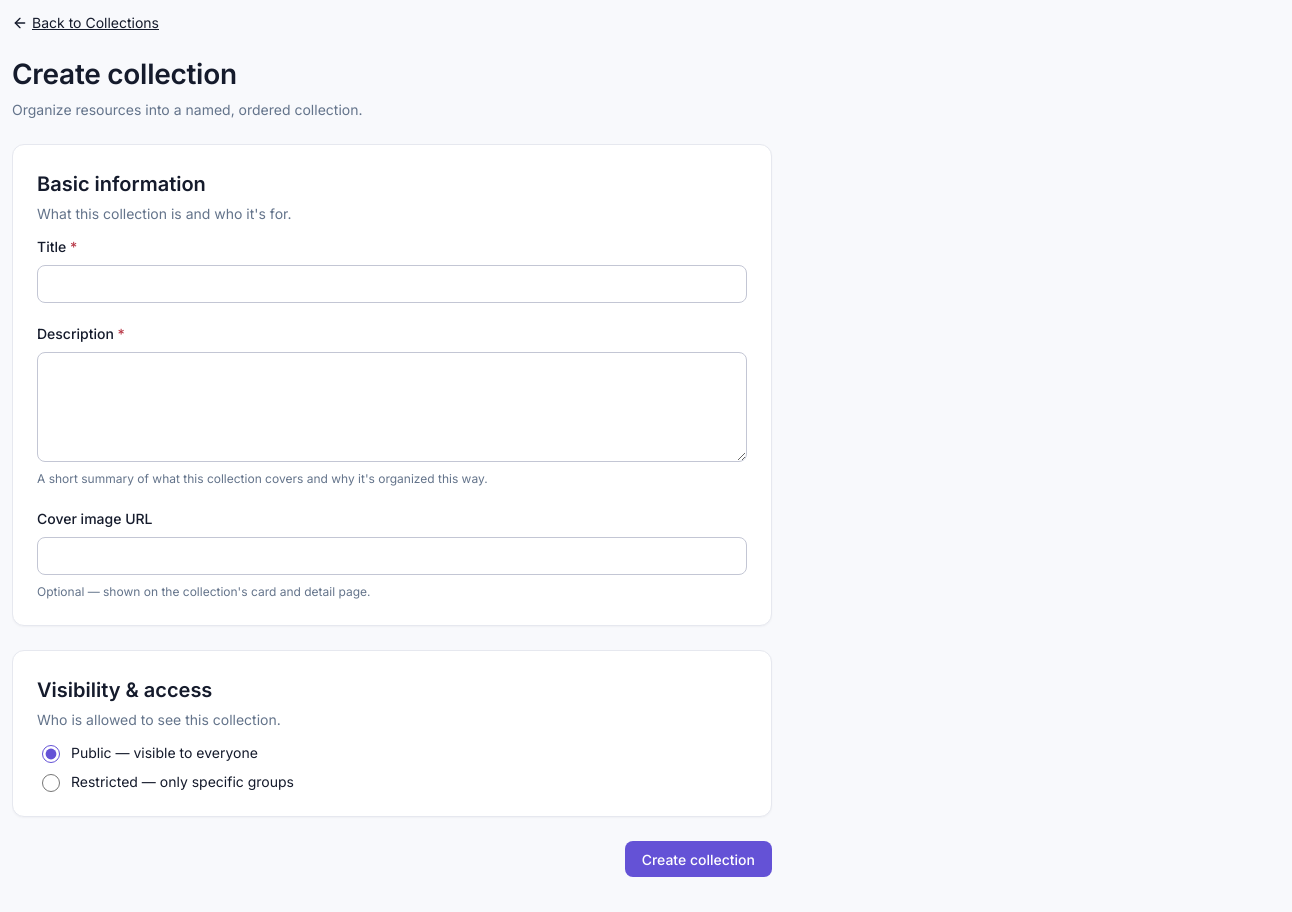
it: CreateCollectionPage › creates a collection, shows a success toast, and navigates to its detail page
Type "A New Collection" into the field labelled "Title *" at [392, 284], box left=50, top=266, right=734, bottom=302
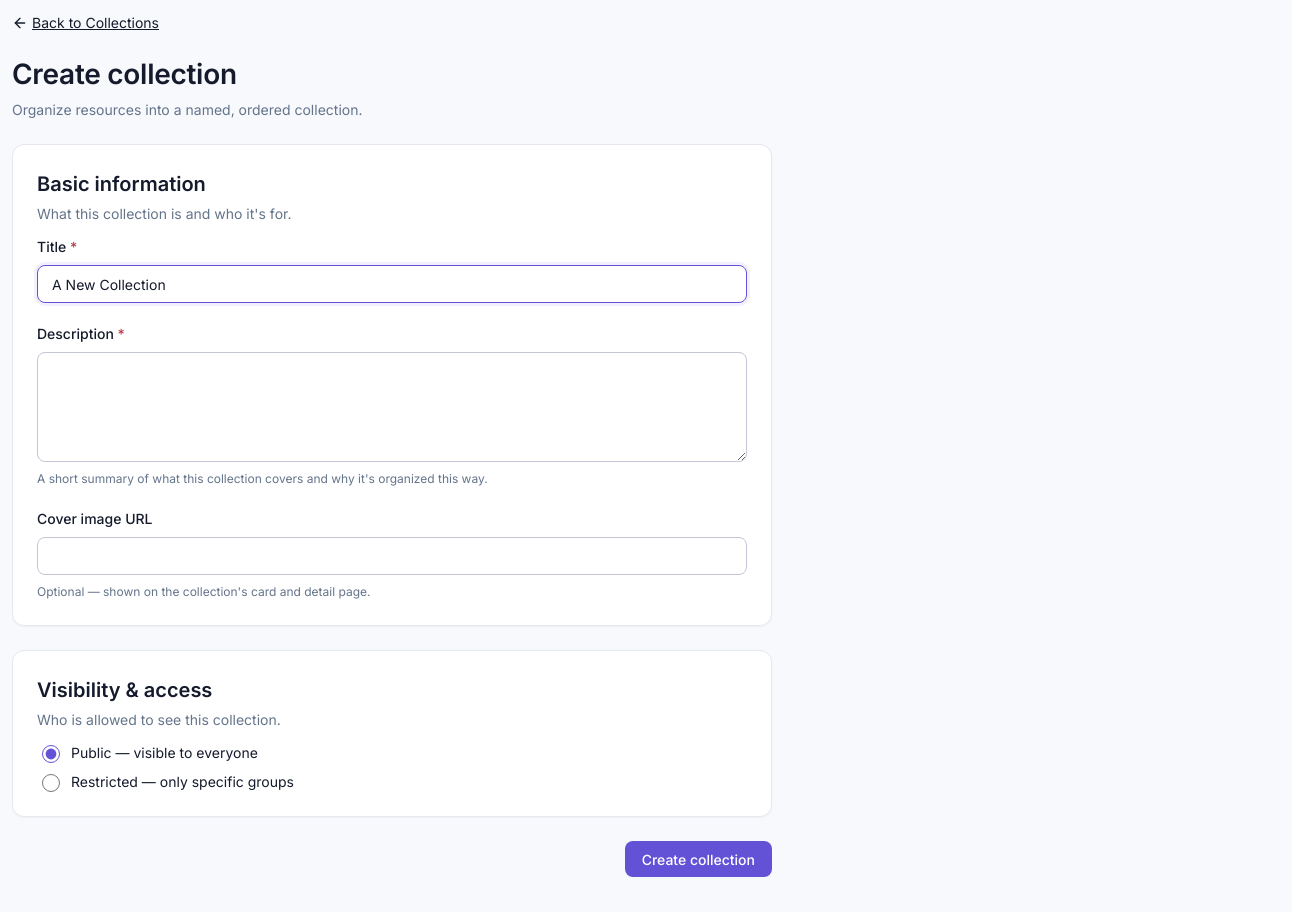
Type "Describes something useful." into the text box labelled "Description *" at [392, 407], box left=37, top=352, right=747, bottom=462
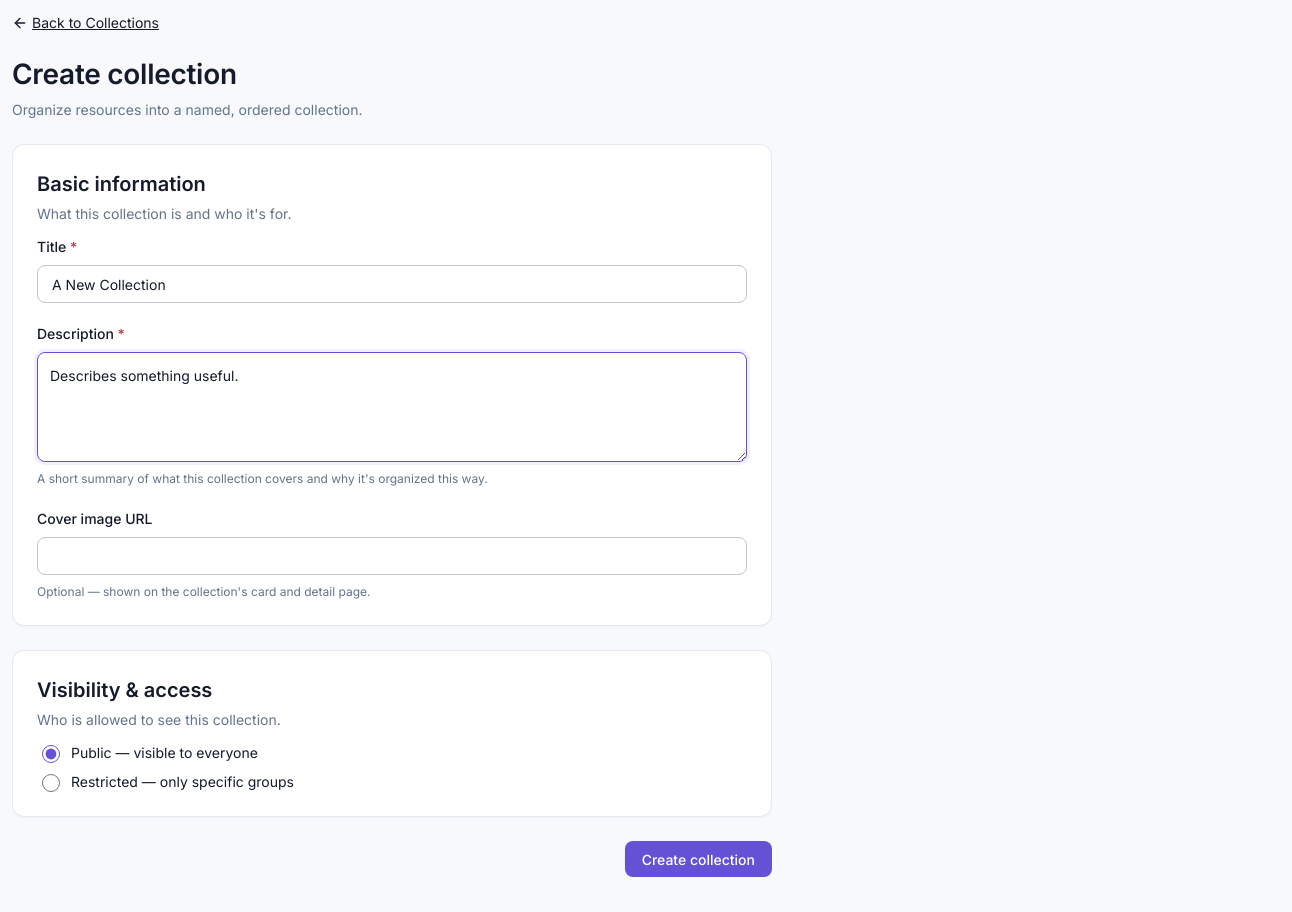
Click the button "Create collection" at [698, 859], box left=625, top=841, right=772, bottom=877
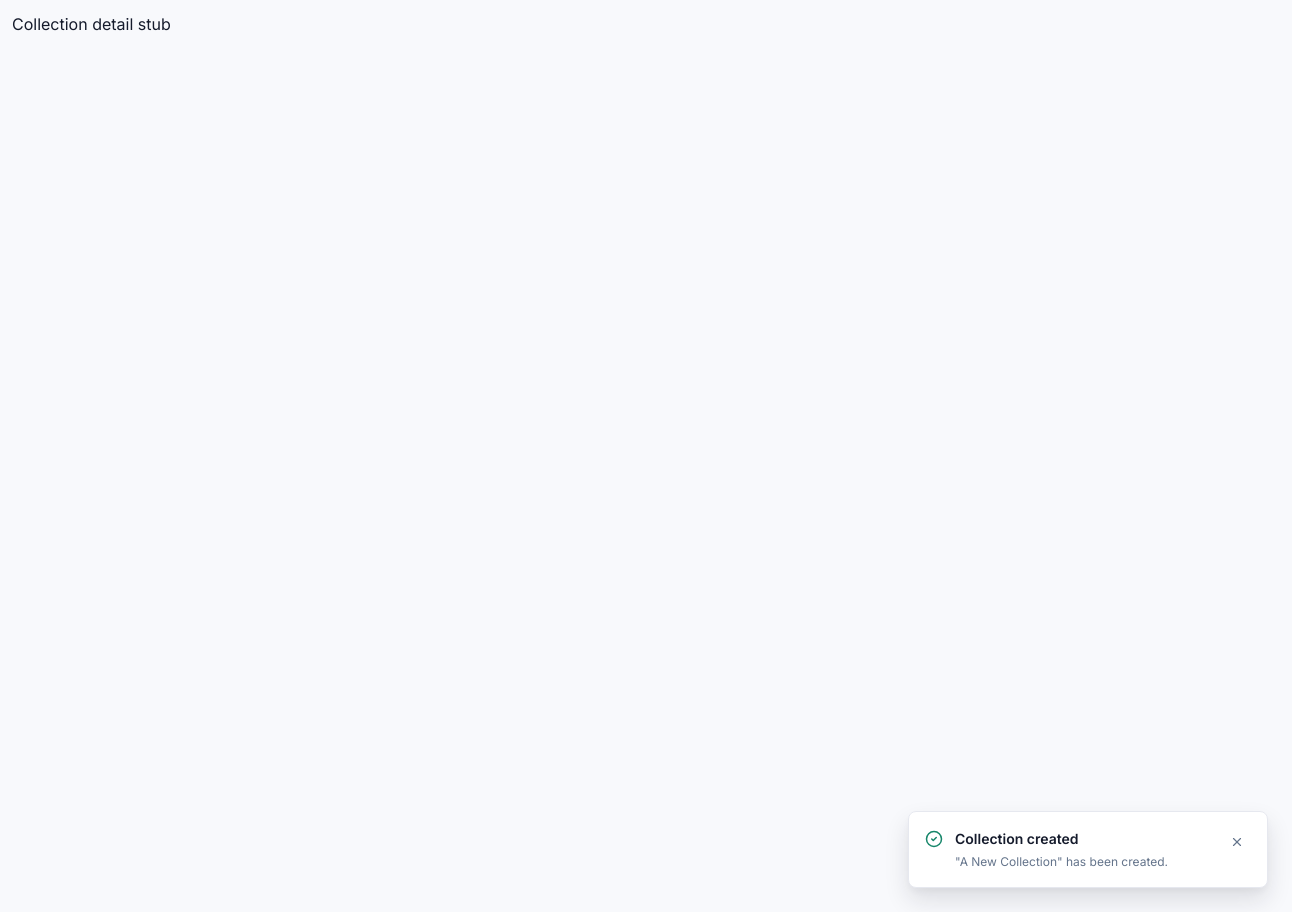
Expected: the text "Collection created" is shown, left=955, top=830, right=1078, bottom=847
Expected: the text "Collection detail stub" is shown, left=12, top=14, right=171, bottom=34
